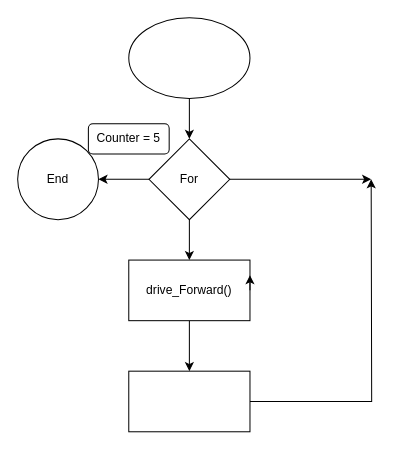
Some shapes in this 398 by 449 pixel diagram are drawn without their labels. The shapes that lost their labels are listed below. From the top down, each one's centre as x and y in pixels, then its label:
the point at 189,57: Start
the point at 189,401: drive_back();
